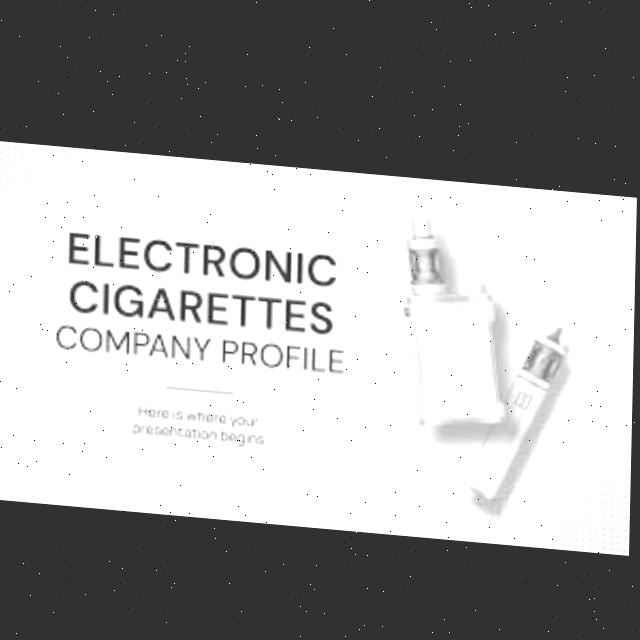vape: (403, 206, 513, 423), (465, 310, 568, 499)
